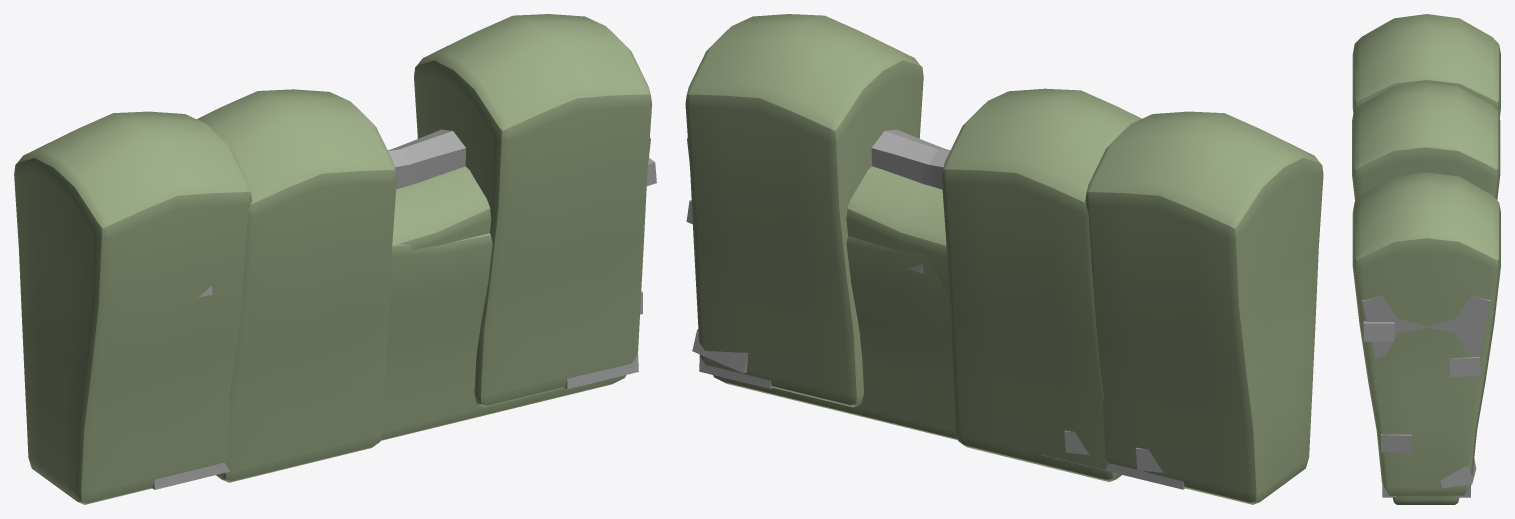
File: Fences.fbx
3 views of the same model, side by side, from view 1: azimuth 30°, elevation 25°; view 2: azimuth 150°, elevation 25°; view 3: azimuth 270°, elevation 25° (orthographic). The views are drawn at different scales.
Parts seen in each view (by area): view 1: Fence_Hedge_Cap, Fence_Hedge_1, Fence_Wood_Cap, Fence_Cobble_Cap; view 2: Fence_Hedge_Cap, Fence_Hedge_1, Fence_Cobble_Cap, Fence_Wood_Cap; view 3: Fence_Hedge_Cap, Fence_Hedge_1, Fence_Cobble_Cap.
Part boxes in pixels (box(x1,y1,x2,y2)): Fence_Hedge_Cap: box(14, 14, 652, 504); Fence_Hedge_1: box(197, 89, 625, 482); Fence_Wood_Cap: box(390, 129, 465, 185); Fence_Cobble_Cap: box(152, 138, 656, 489); Fence_Hedge_Cap: box(685, 14, 1323, 504); Fence_Hedge_1: box(713, 88, 1141, 481); Fence_Cobble_Cap: box(686, 137, 1185, 489); Fence_Wood_Cap: box(871, 129, 947, 185); Fence_Hedge_Cap: box(1352, 14, 1500, 495); Fence_Hedge_1: box(1352, 82, 1500, 504); Fence_Cobble_Cap: box(1362, 295, 1490, 497).
Bounding box in the file's own units: 234 × 143 × 65.82.
